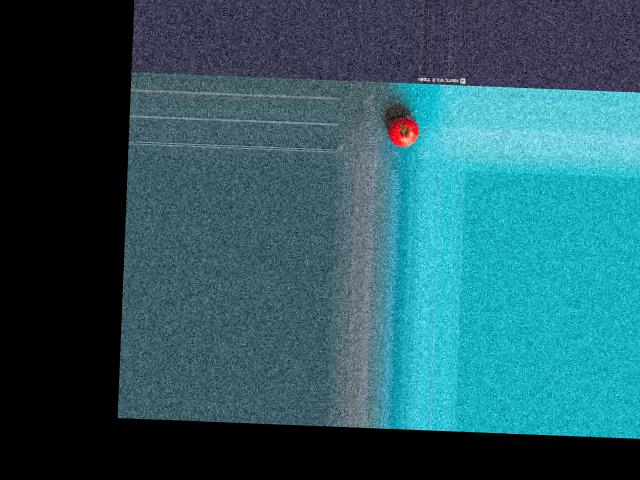tomato: (387, 115, 419, 147)
